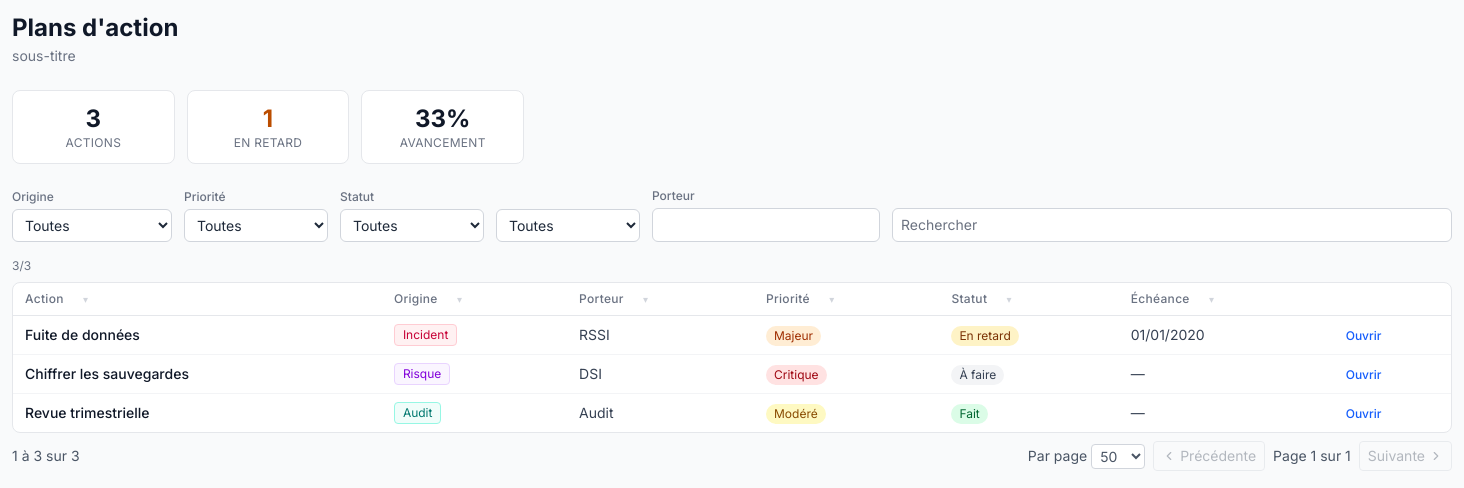
Test: PlansActionsView › recherche texte sur le titre (envoyée au serveur après une pause)
Type "revue" into the search field with placeholder "Rechercher" at (1172, 225), box x1=892 y1=208 x2=1452 y2=242
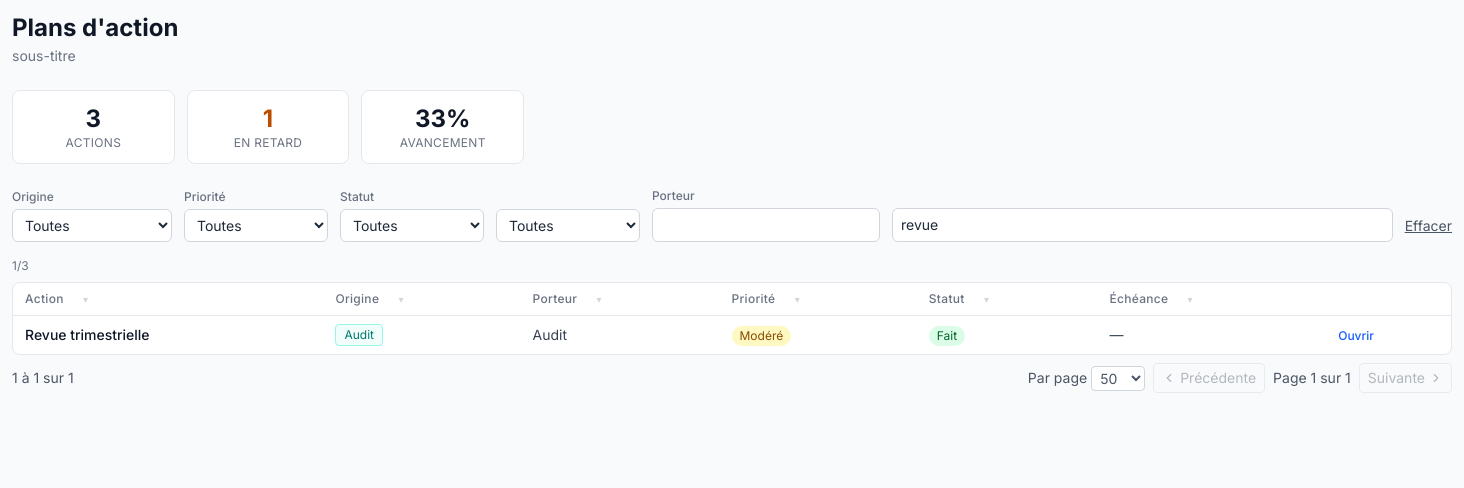
Now the text "Chiffrer les sauvegardes" is not shown
Now the text "Revue trimestrielle" is shown 2 times
